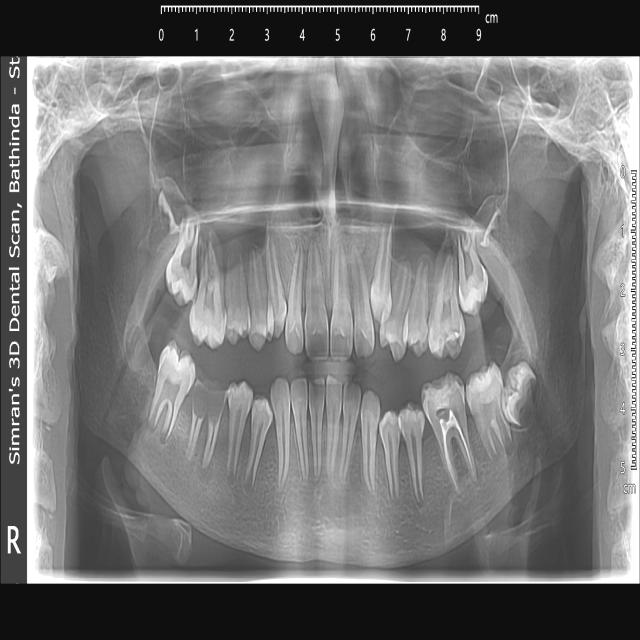Caries: (429, 305, 463, 359)
Periapical lesion: (197, 449, 215, 484)
Root Canal Treatment: (422, 374, 477, 498)
Root Piece: (183, 413, 220, 472)
